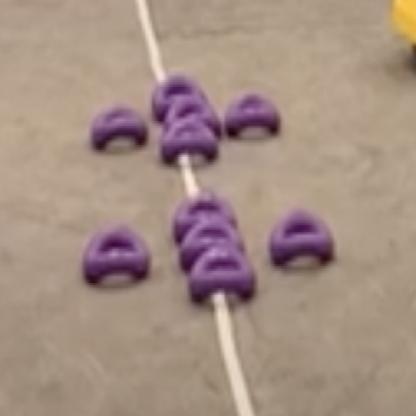ring: (83, 223, 148, 278), (268, 208, 333, 263), (187, 244, 253, 298), (172, 191, 240, 237), (180, 216, 243, 261), (150, 70, 208, 112), (163, 94, 221, 136), (223, 90, 277, 133), (90, 104, 146, 145), (160, 118, 216, 158)
